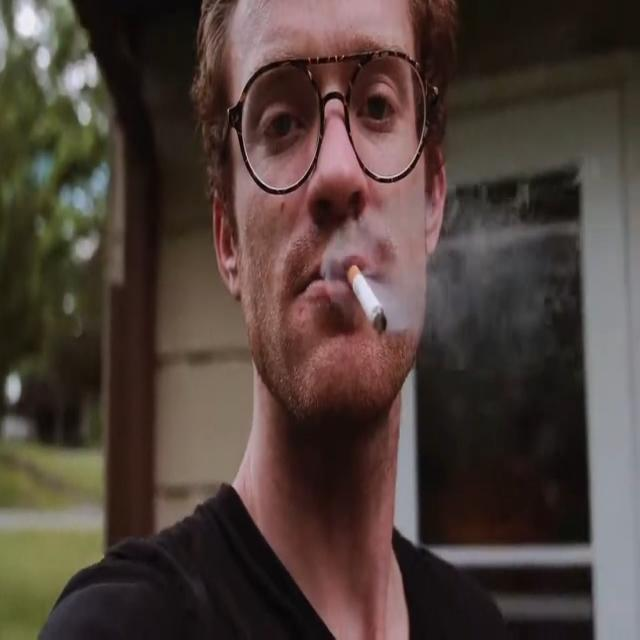Курение: (346, 262, 388, 339)
